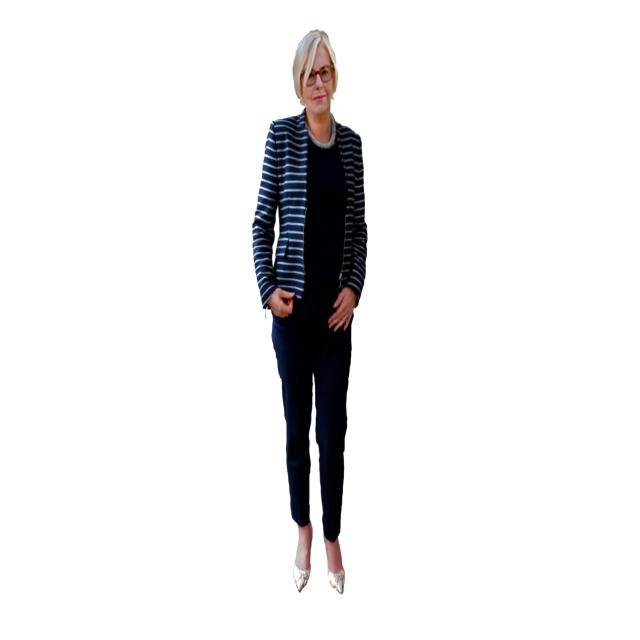jovem: (250, 22, 386, 612)
